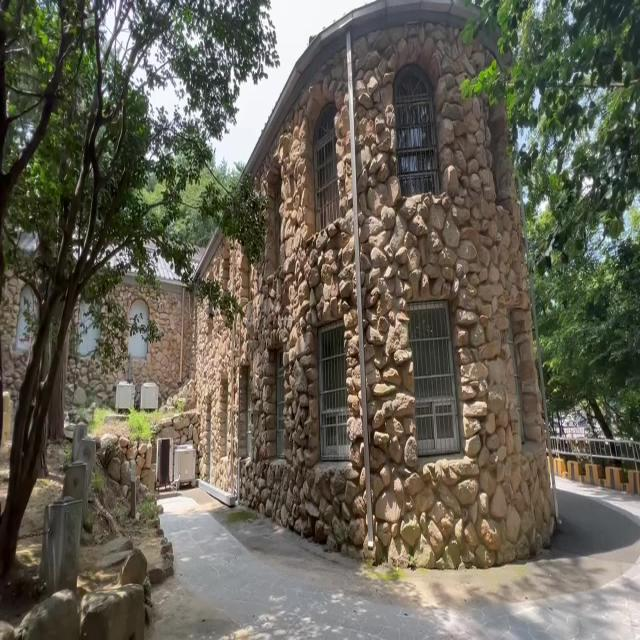building: (215, 45, 548, 563)
